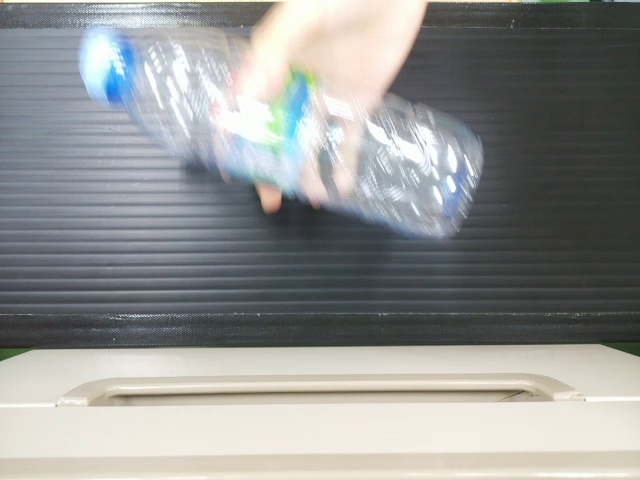bottle: (74, 12, 486, 247)
